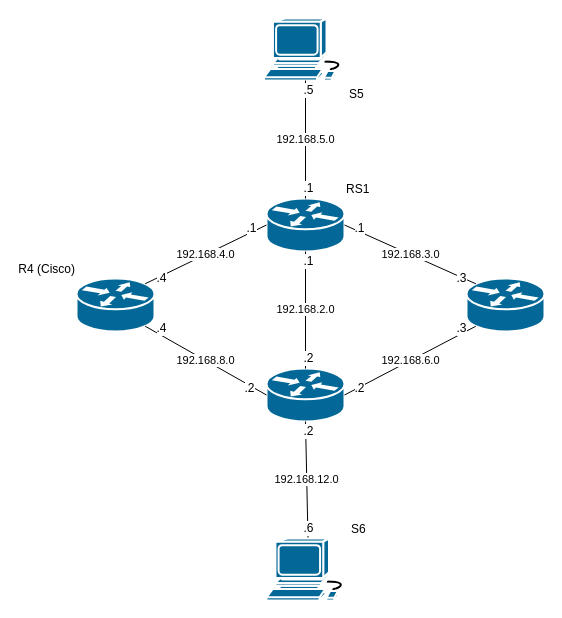
Some shapes in this 562 by 618 pixel diagram are drawn without their labels. Here are the shapes that lost their labels. From the top down, the centre of each, then its label:
At (505,304): "R3 (Cisco)".
At (305,394): "RS2".
